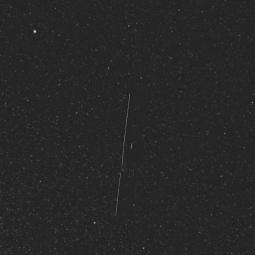smart_1: (95, 90, 163, 230)
